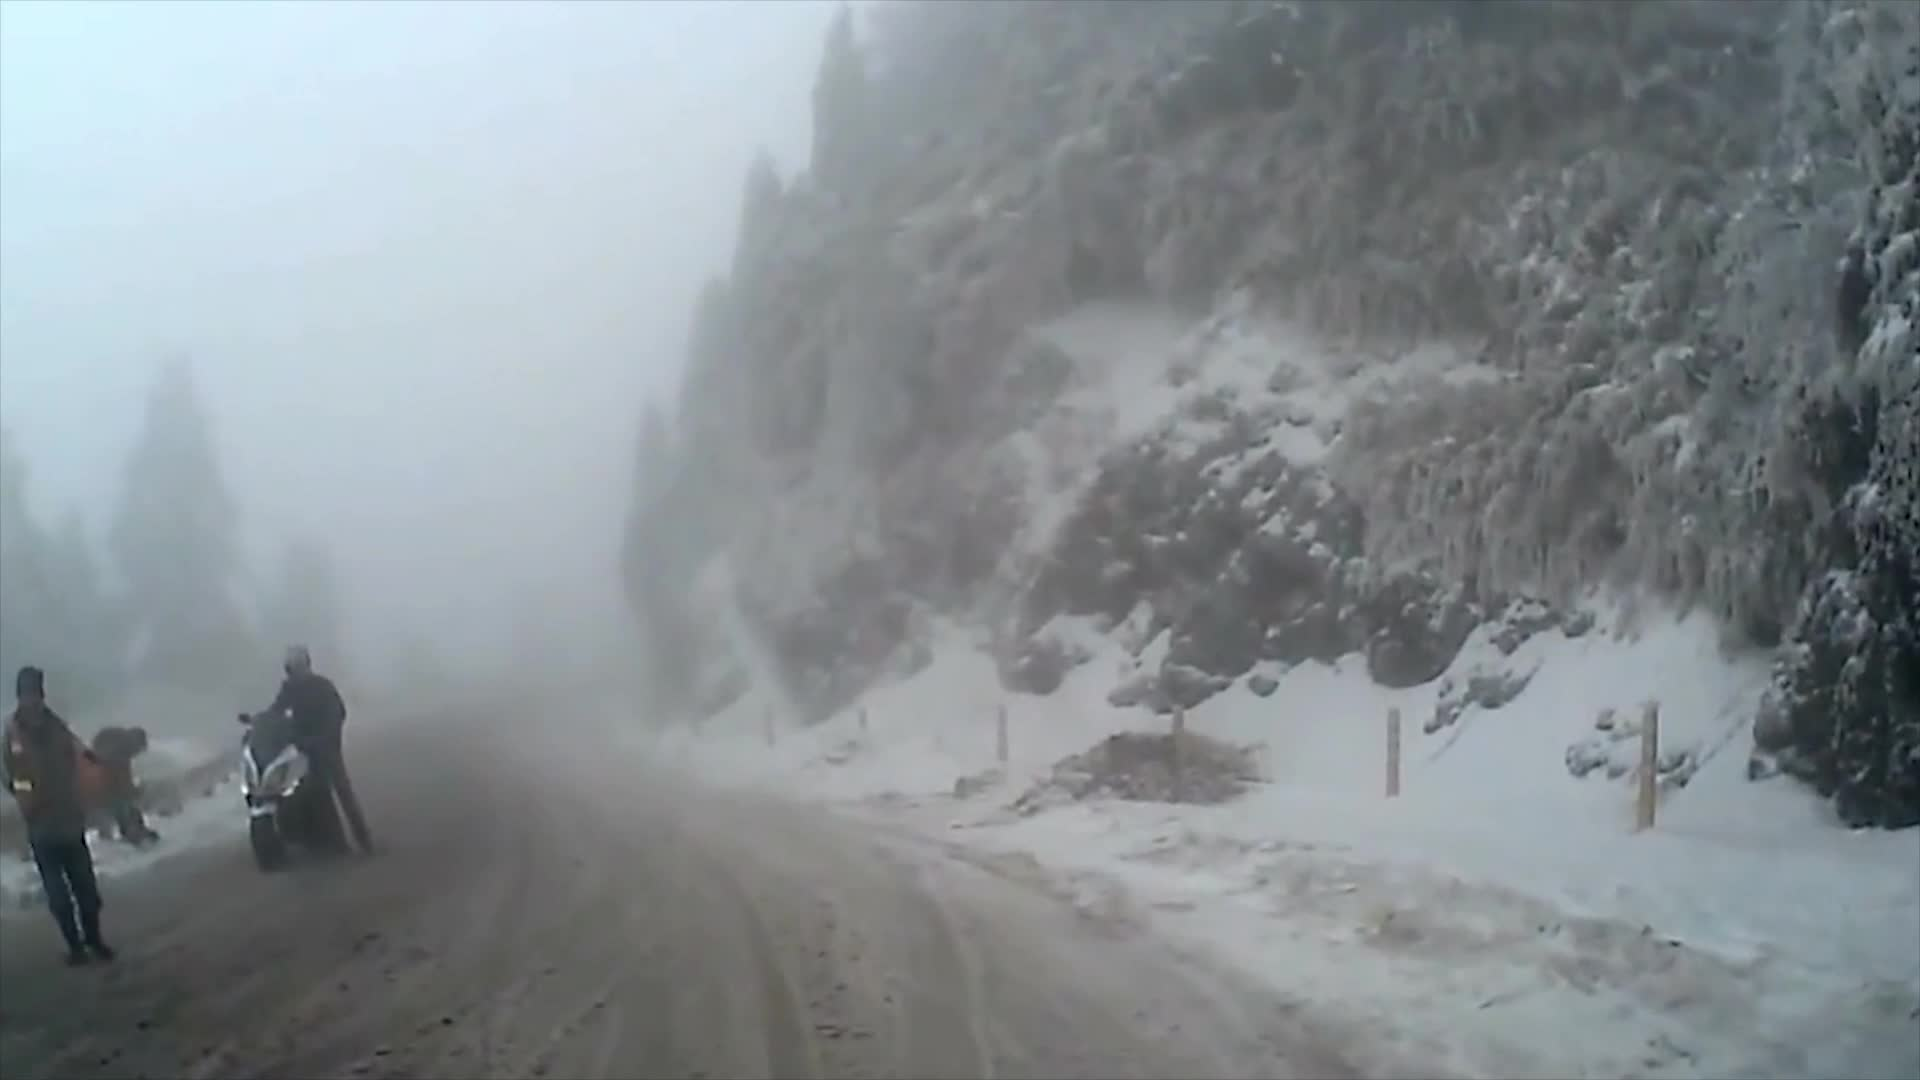pedestrian: (2, 665, 117, 963), (254, 635, 388, 862), (86, 726, 163, 847)
